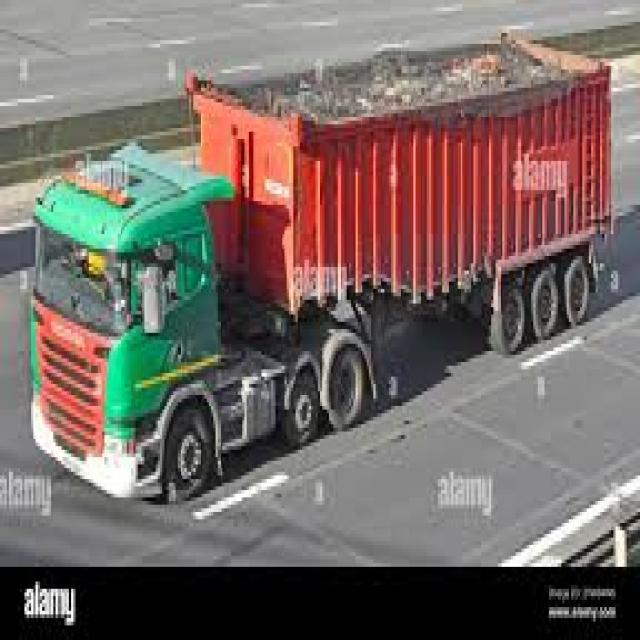uncovered: (28, 48, 606, 492)
